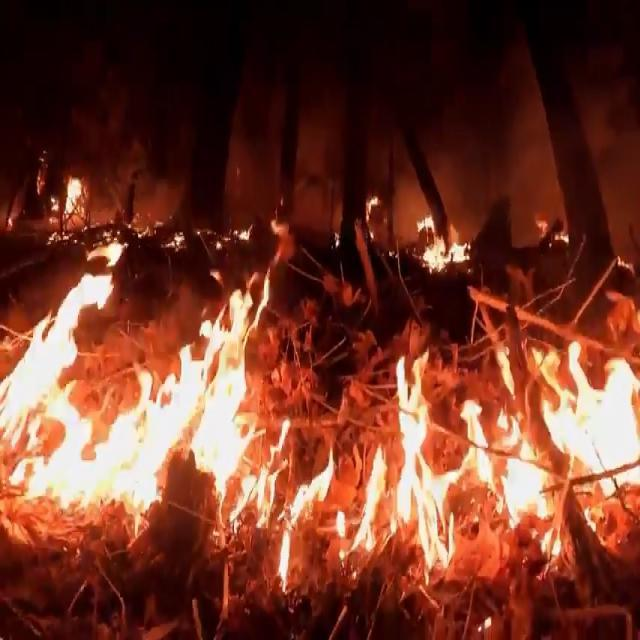Fire: (0, 143, 640, 570)
